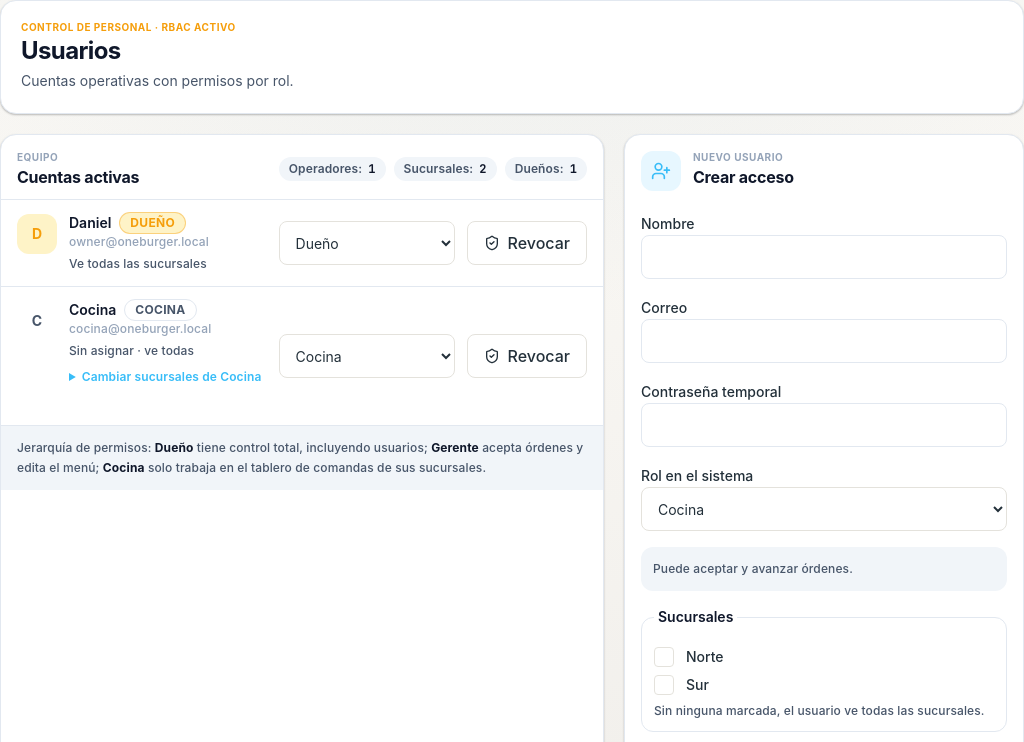
AdminUsersPage › keeps the user in the list when the revoke fails
The width and height of the screenshot is (1024, 742).
Click the button with aria-label "Revocar acceso de Cocina" at {"x": 527, "y": 356}, box [466, 334, 587, 378]
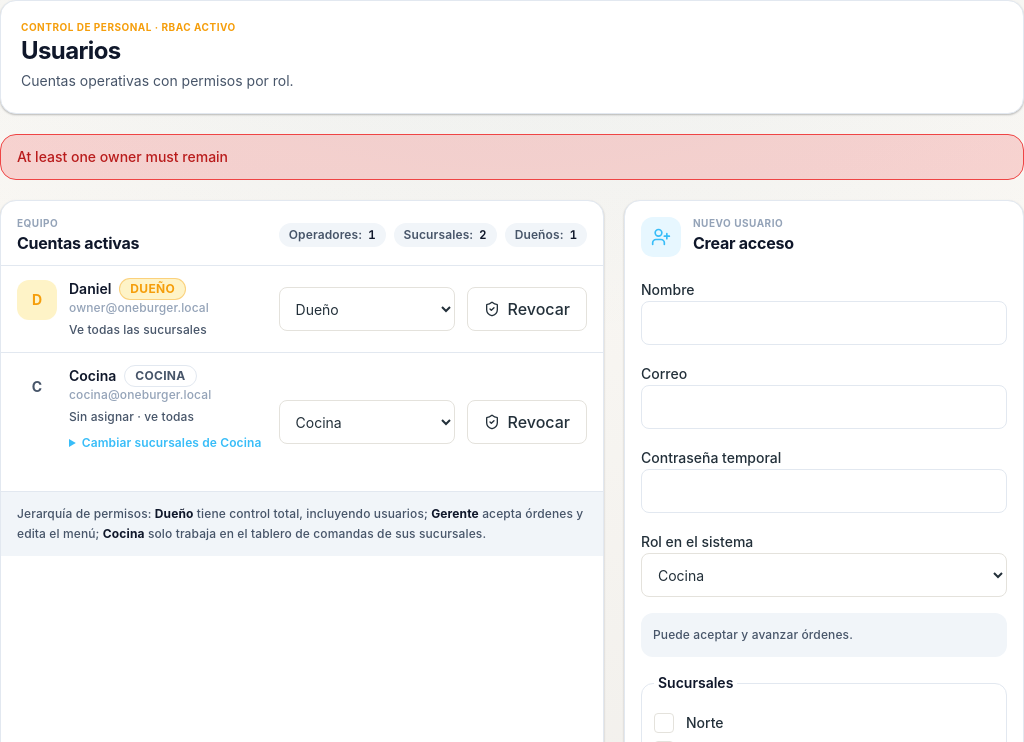
Expected: the button with aria-label "Revocar acceso de Cocina" is shown, [466, 400, 587, 444]
Now the text "At least one owner must remain" is shown, box [0, 134, 1023, 180]
